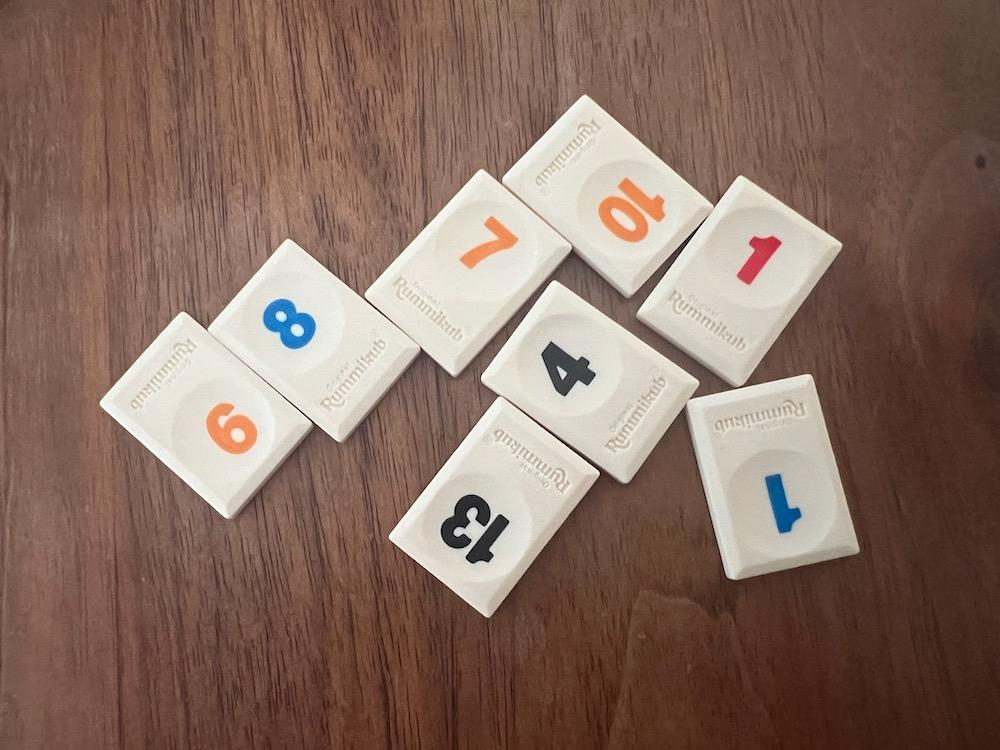black_13: (389, 398, 600, 617)
black_4: (482, 281, 697, 482)
blue_1: (688, 375, 859, 580)
blue_8: (209, 240, 420, 441)
orange_10: (502, 96, 713, 297)
orange_7: (365, 170, 570, 375)
orange_9: (102, 312, 312, 518)
red_1: (639, 176, 842, 387)
